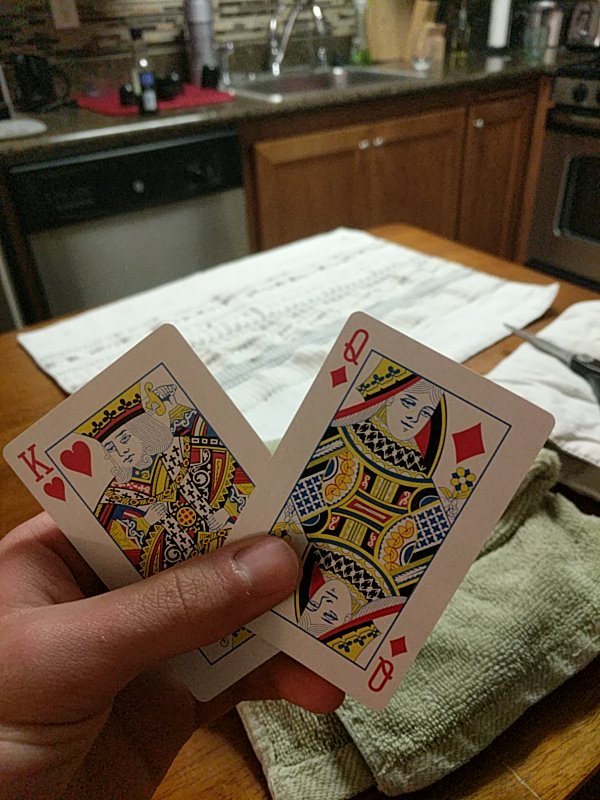Diamonds: (218, 312, 554, 710)
Hearts: (3, 321, 320, 703)
